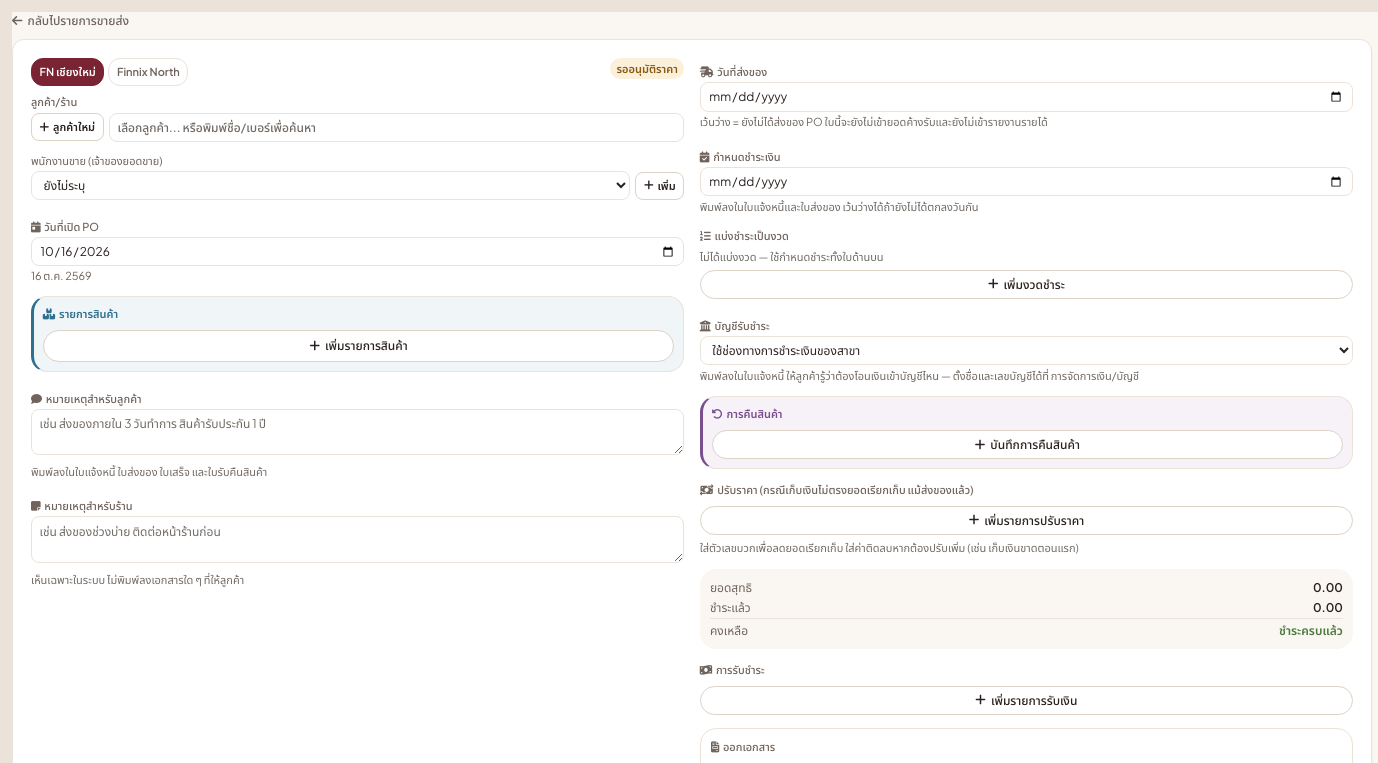
Test: WholesaleDetail — สาขา และ ถังขยะ › offers the chosen branch’s stock, not only the branch the draft opened on
Click the button "เพิ่มรายการสินค้า" at (359, 346), box [43, 330, 674, 362]
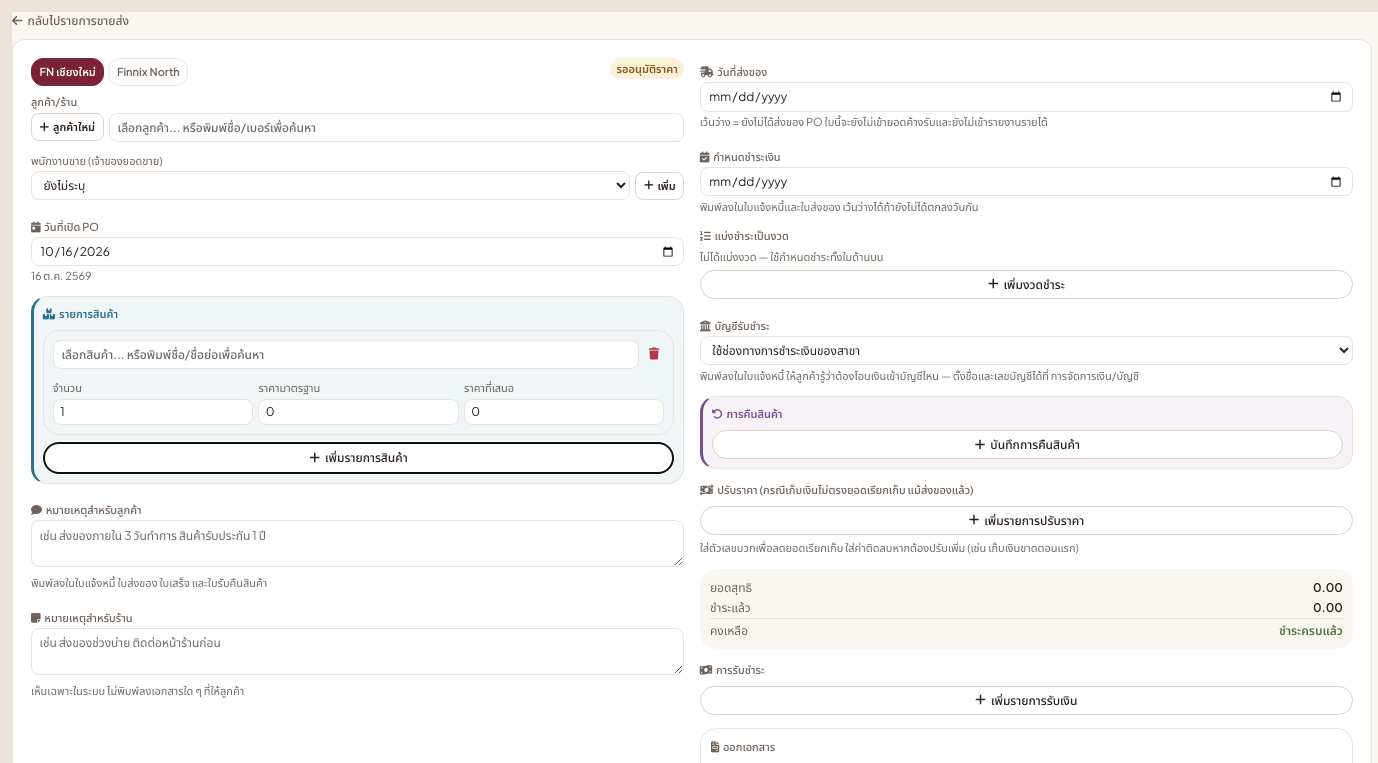
Click the dropdown named "สินค้าในรายการ" at (346, 355), box [53, 340, 639, 369]
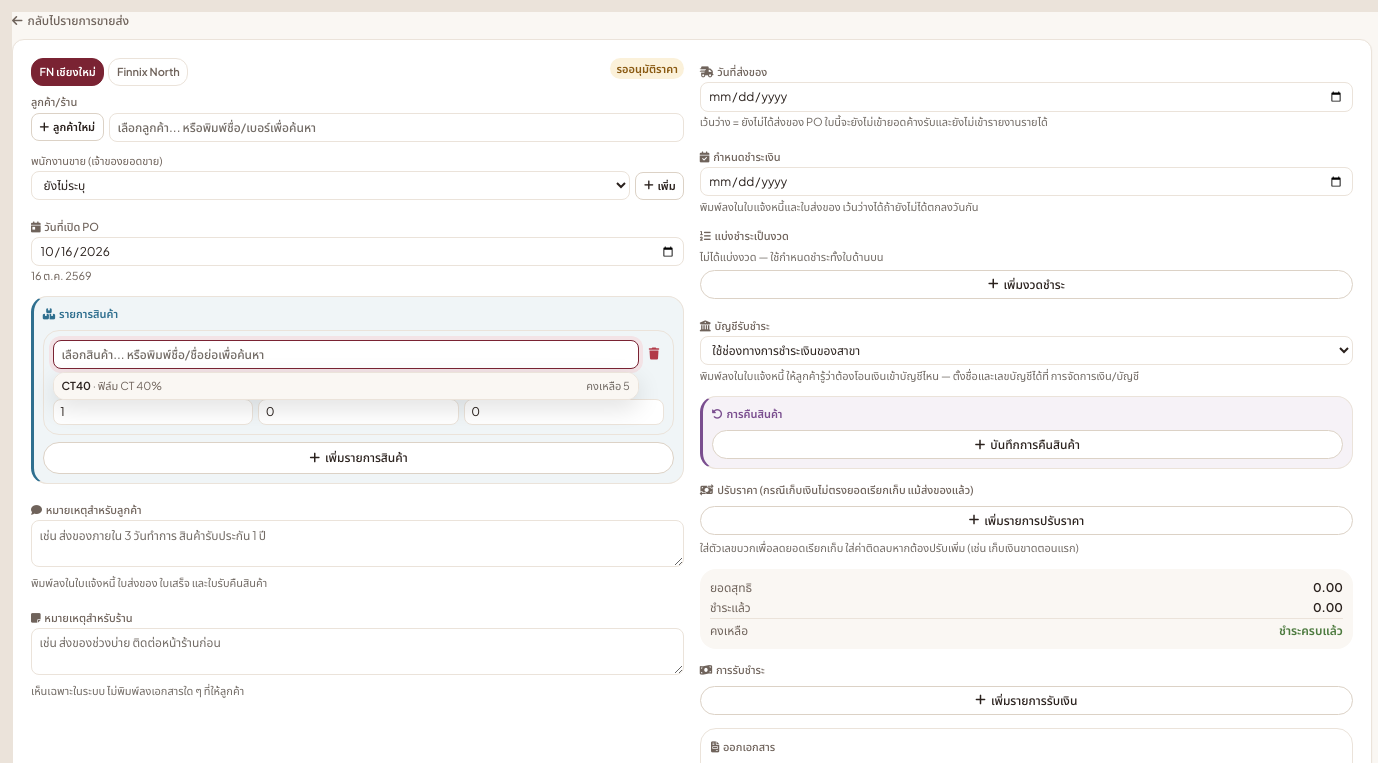
Expected: the text "ฟิล์มกันรอย" is not shown
Now the text "ฟิล์ม CT 40%" is shown, box [98, 379, 162, 392]
// Switch to the wholesale-only branch: its shelf is what the PO now sells.
Click the button "Finnix North" at (148, 72), box [108, 58, 188, 86]
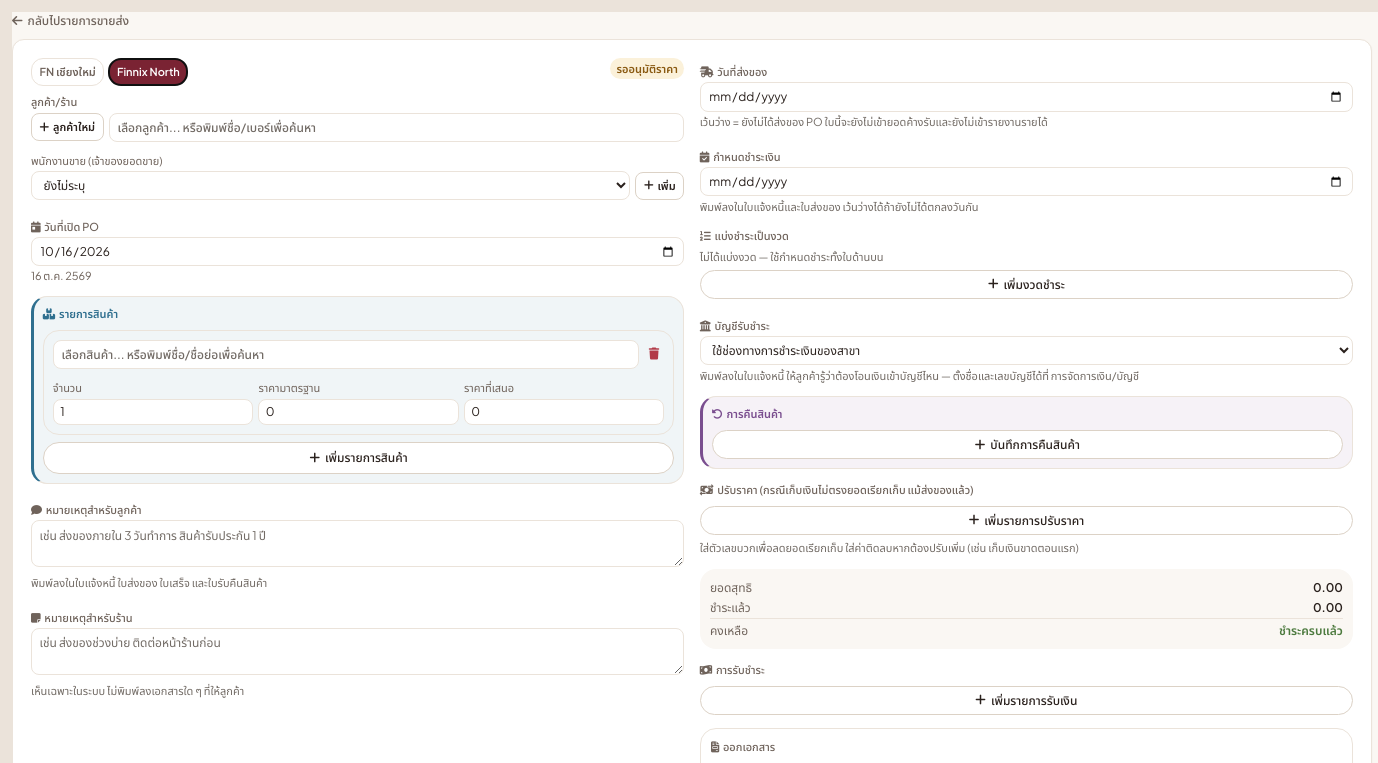
Click the dropdown named "สินค้าในรายการ" at (346, 355), box [53, 340, 639, 369]
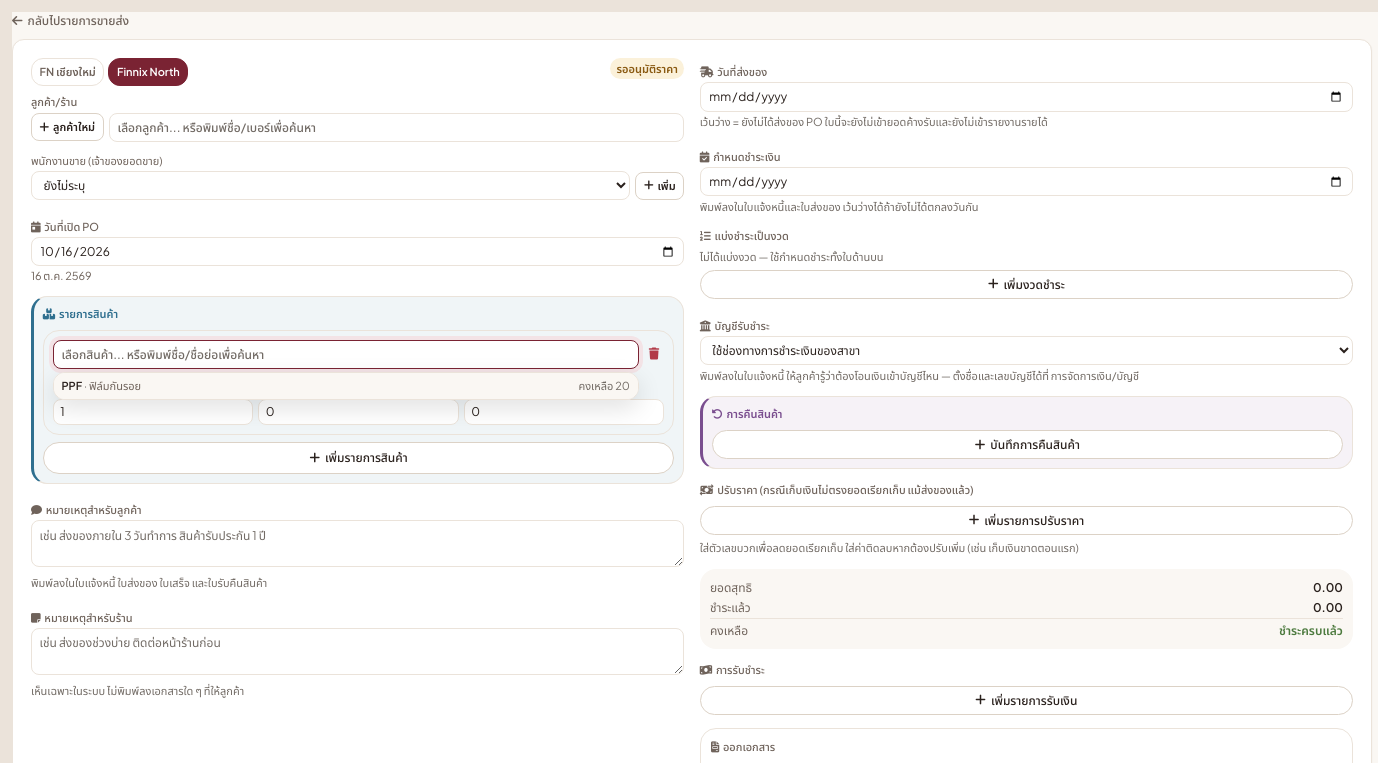
Now the text "ฟิล์มกันรอย" is shown, box [89, 379, 141, 392]
